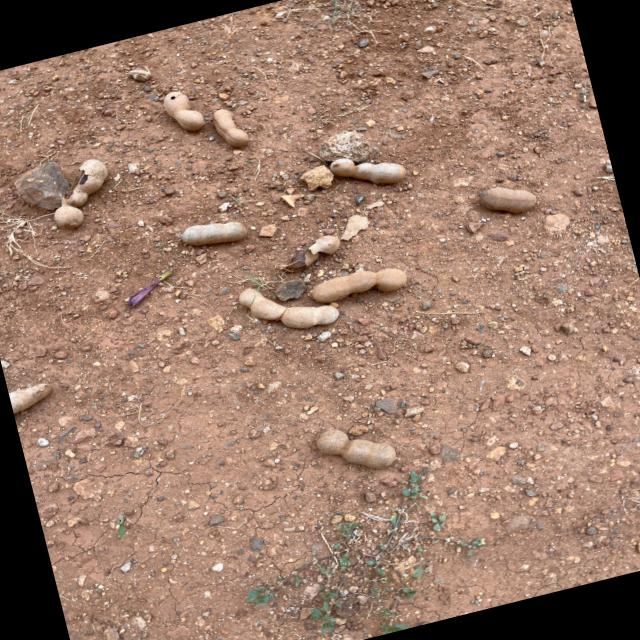tamarind: (234, 268, 342, 344), (42, 155, 120, 232), (314, 414, 402, 481), (308, 259, 409, 310), (330, 142, 410, 195), (268, 232, 346, 276), (182, 212, 250, 254), (475, 177, 540, 220), (160, 84, 208, 136), (212, 101, 255, 150), (8, 380, 54, 414)
